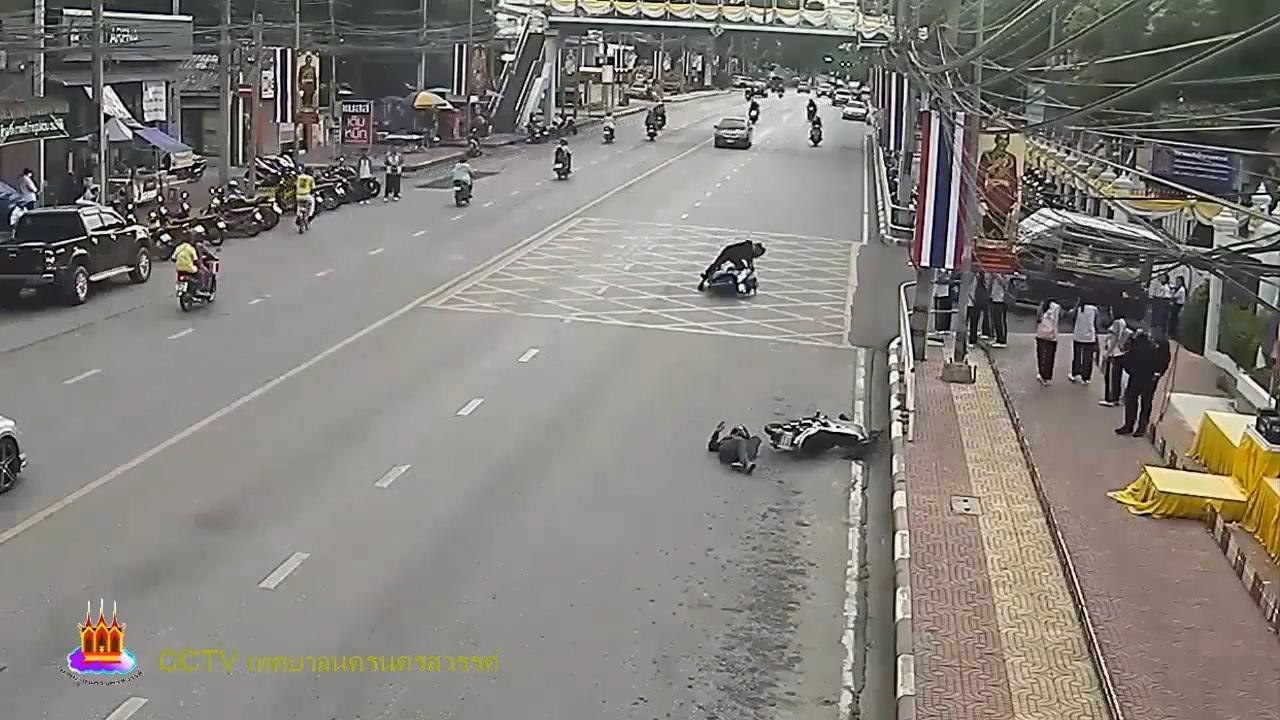accident: (702, 415, 769, 476)
